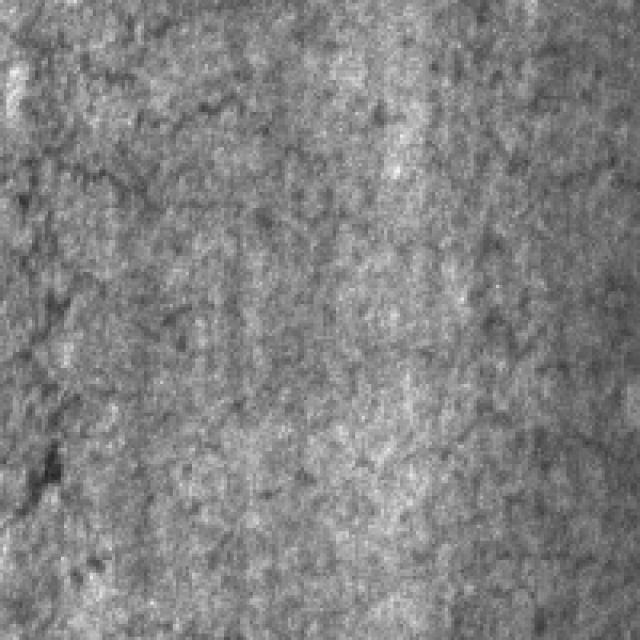crazing: (0, 13, 314, 221), (19, 262, 307, 432)
